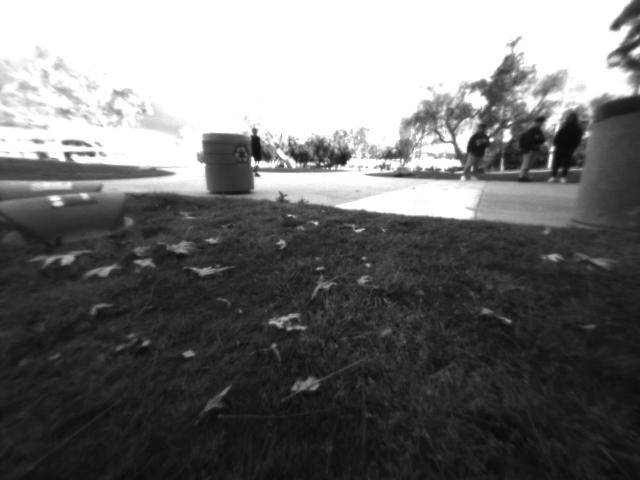trashcan: (569, 86, 640, 247), (194, 127, 253, 205)
